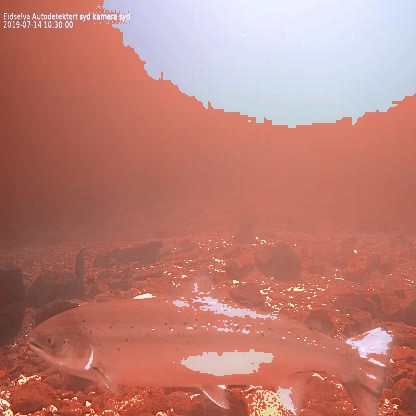salmon: (25, 270, 397, 416)
